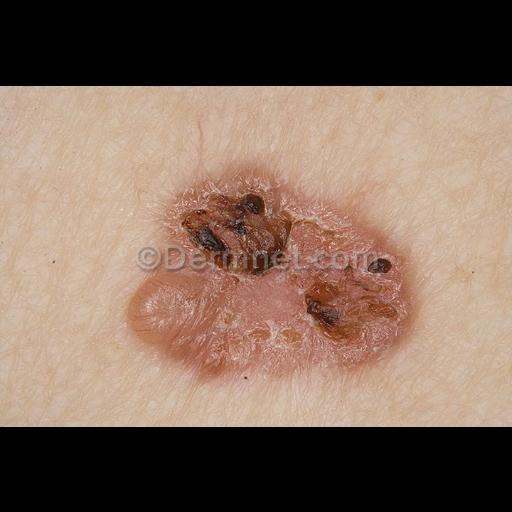Skin_Lesion: (115, 116, 421, 390)
